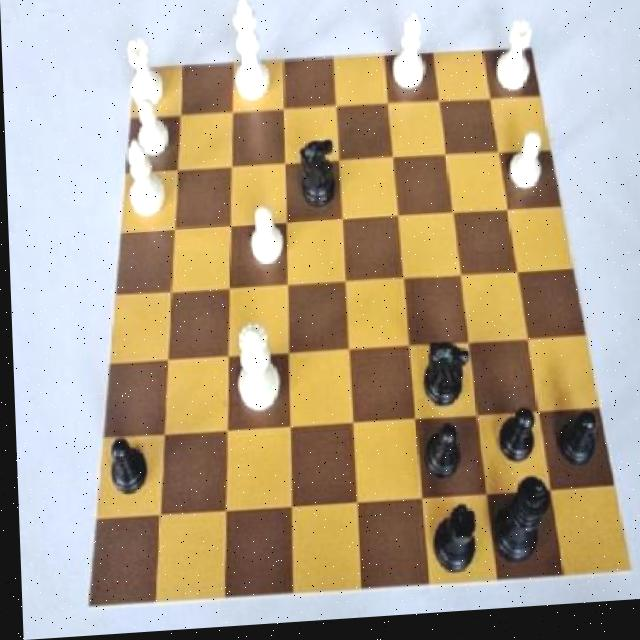black-bishop: (485, 477, 553, 583)
black-king: (414, 334, 471, 423), (289, 132, 339, 218)
black-knight: (548, 411, 601, 482), (97, 430, 147, 504), (489, 411, 538, 481), (416, 427, 466, 493)
black-queen: (422, 507, 481, 589)
black-rook: (118, 131, 165, 229), (386, 13, 434, 108)
white-bishop: (226, 0, 274, 114)
white-knight: (239, 206, 287, 273), (501, 135, 546, 206), (129, 99, 171, 167)
white-pawn: (227, 324, 280, 422)
white-queen: (123, 31, 167, 120), (491, 18, 536, 103)
